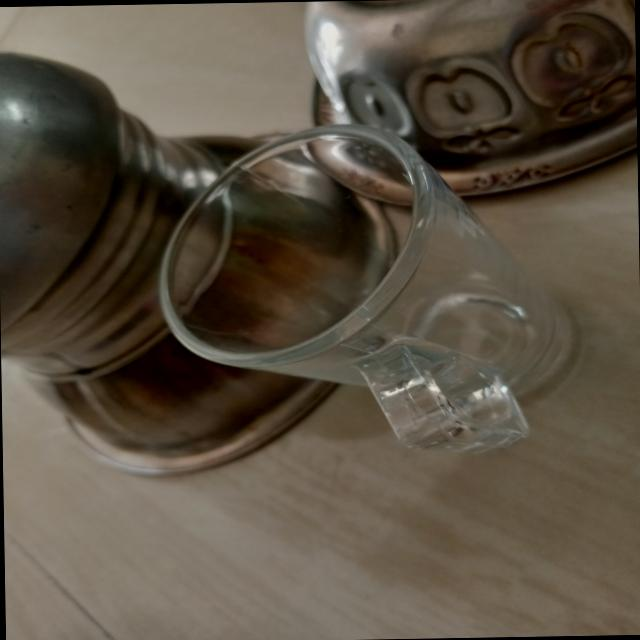glass-VX4N: (157, 118, 585, 459)
